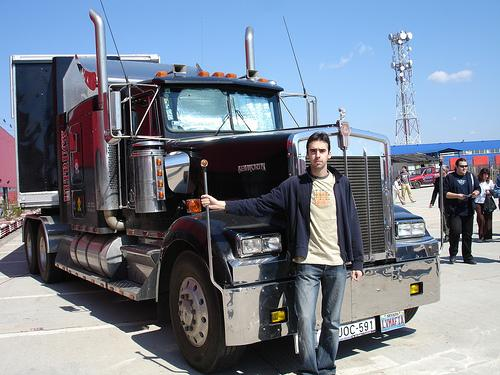truck: (9, 7, 441, 375)
